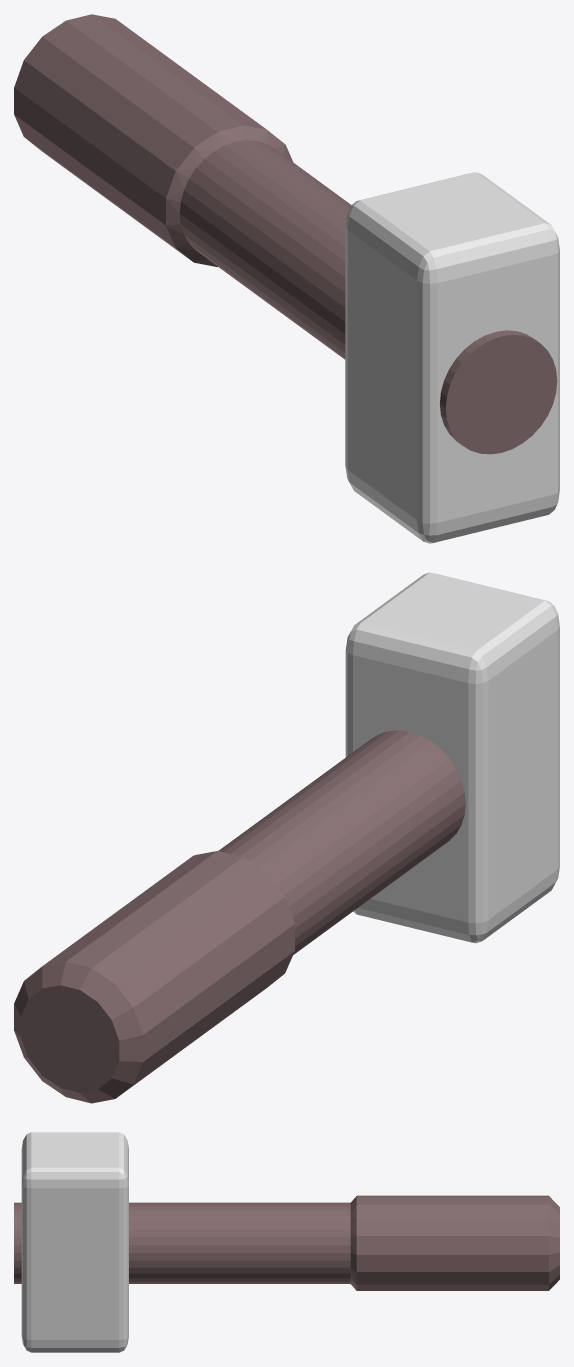
Rendered from rubberhammer.fbx.
3 renders of one model, top to bottom at view 1: azimuth 30°, elevation 25°; view 2: azimuth 150°, elevation 25°; view 3: azimuth 270°, elevation 25°, orthographic. The views are drawn at different scales.
Parts seen in each view (by area): view 1: stick, Cube; view 2: stick, Cube; view 3: stick, Cube.
Boxes of the visible parts, x1,y1,x2,y2 form: stick: (14,14,557,454); Cube: (345,172,559,543); stick: (14,730,465,1103); Cube: (345,572,559,943); stick: (14,1195,559,1290); Cube: (21,1132,128,1352).
Size of the model in its own units: 3787 by 7517 by 20107.
